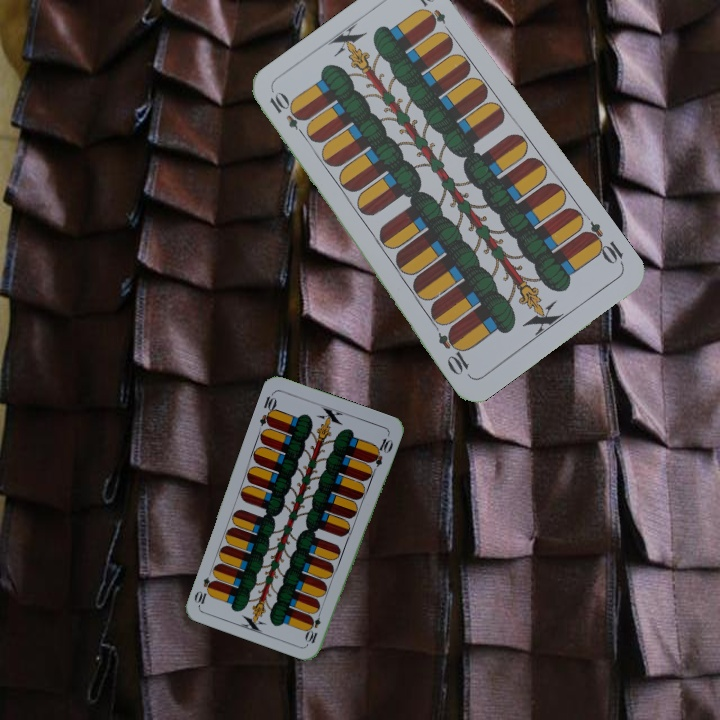E10: (579, 218, 627, 269), (265, 89, 311, 141), (256, 389, 279, 429), (303, 606, 324, 646)
